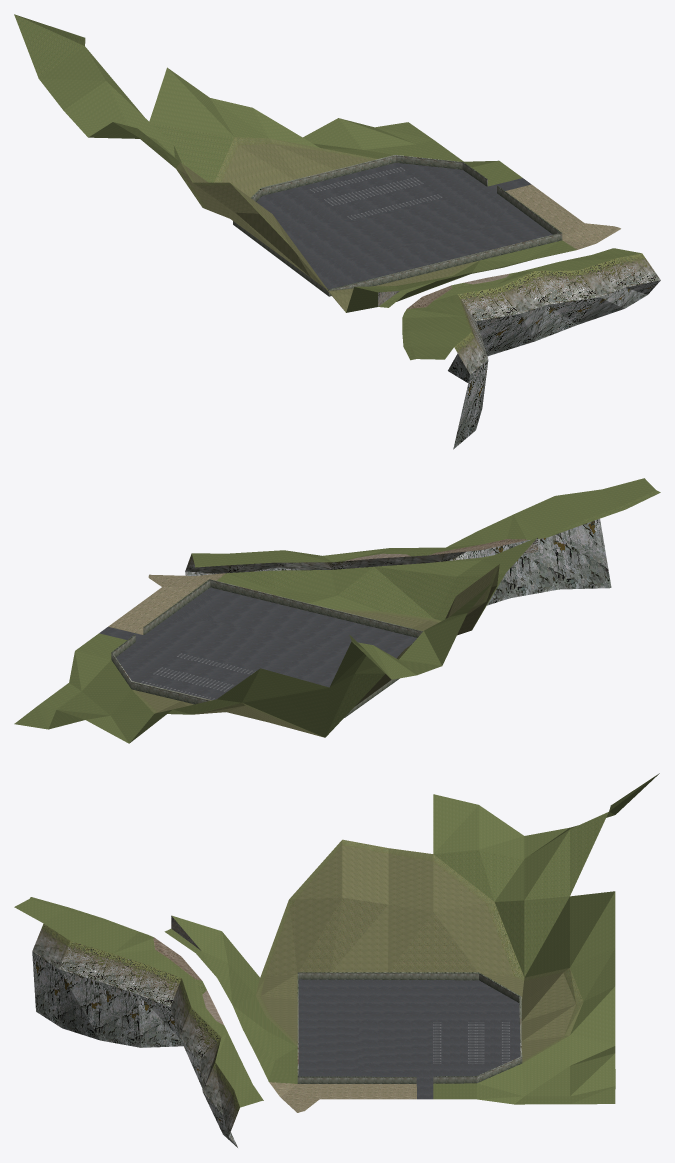
Rendered from lodcuntw08.obj.
3 views of the same model, one above another, from view 1: azimuth 30°, elevation 25°; view 2: azimuth 150°, elevation 25°; view 3: azimuth 270°, elevation 25° (orthographic). The views are drawn at different scales.
Visible parts, largest first — view 1: lodcuntw08; view 2: lodcuntw08; view 3: lodcuntw08.
Boxes of the visible parts, <box> form: lodcuntw08: <box>14,14,660,449</box>; lodcuntw08: <box>14,478,660,743</box>; lodcuntw08: <box>14,773,659,1147</box>.
Size of the model in its own units: 303 by 149 by 448.
Materials: 12 (12 with a texture image).
